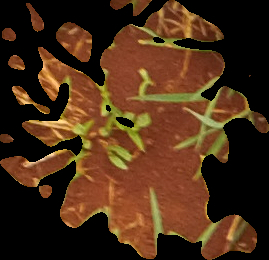soil: (1, 1, 269, 258)
